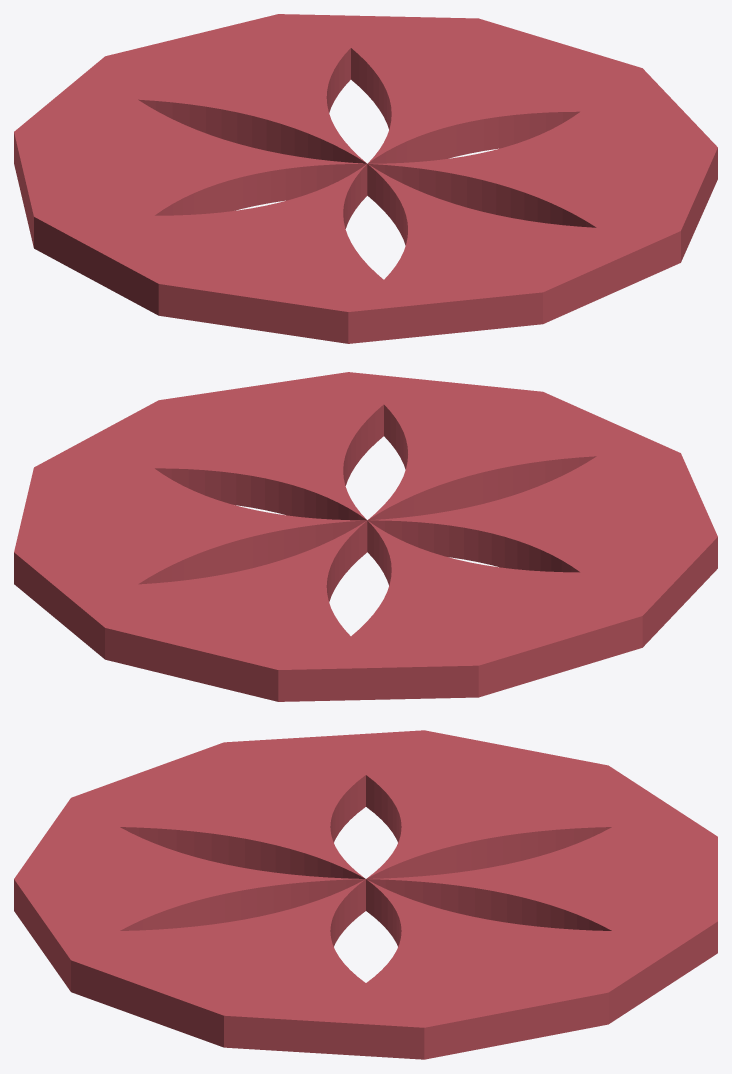
Rendered from card3.fbx.
3 views of the same model, one above another, from view 1: azimuth 30°, elevation 25°; view 2: azimuth 150°, elevation 25°; view 3: azimuth 270°, elevation 25° (orthographic).
Parts seen in each view (by area): view 1: obj_0; view 2: obj_0; view 3: obj_0.
Part boxes in pixels (<box>): obj_0: <box>14,14,717,343</box>; obj_0: <box>14,372,717,701</box>; obj_0: <box>14,730,717,1059</box>.
Bounding box in the file's own units: 2000 × 100 × 2000.
